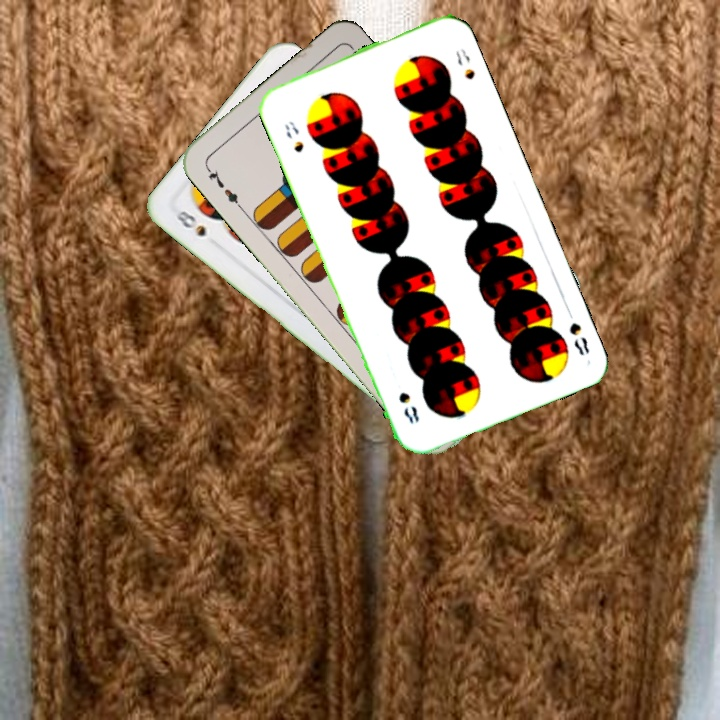E7: (201, 162, 245, 211)
S8: (562, 303, 593, 358), (172, 206, 209, 240), (280, 117, 307, 155)
